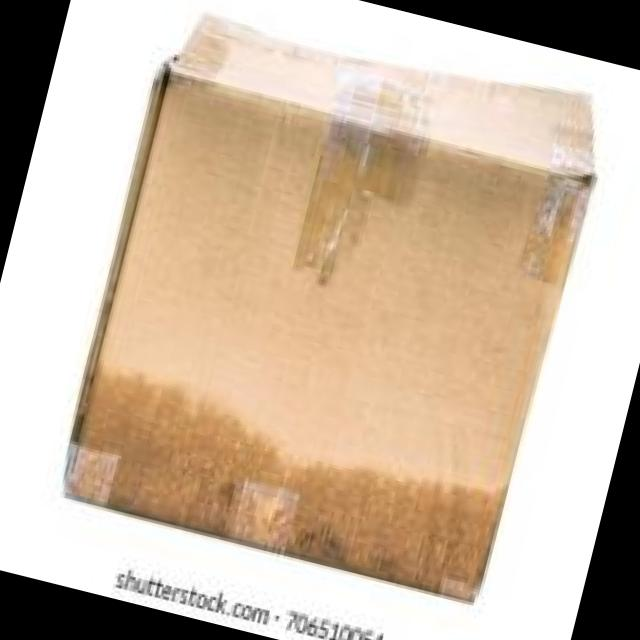box: (57, 9, 598, 605)
normal_hole: (62, 362, 553, 608)
